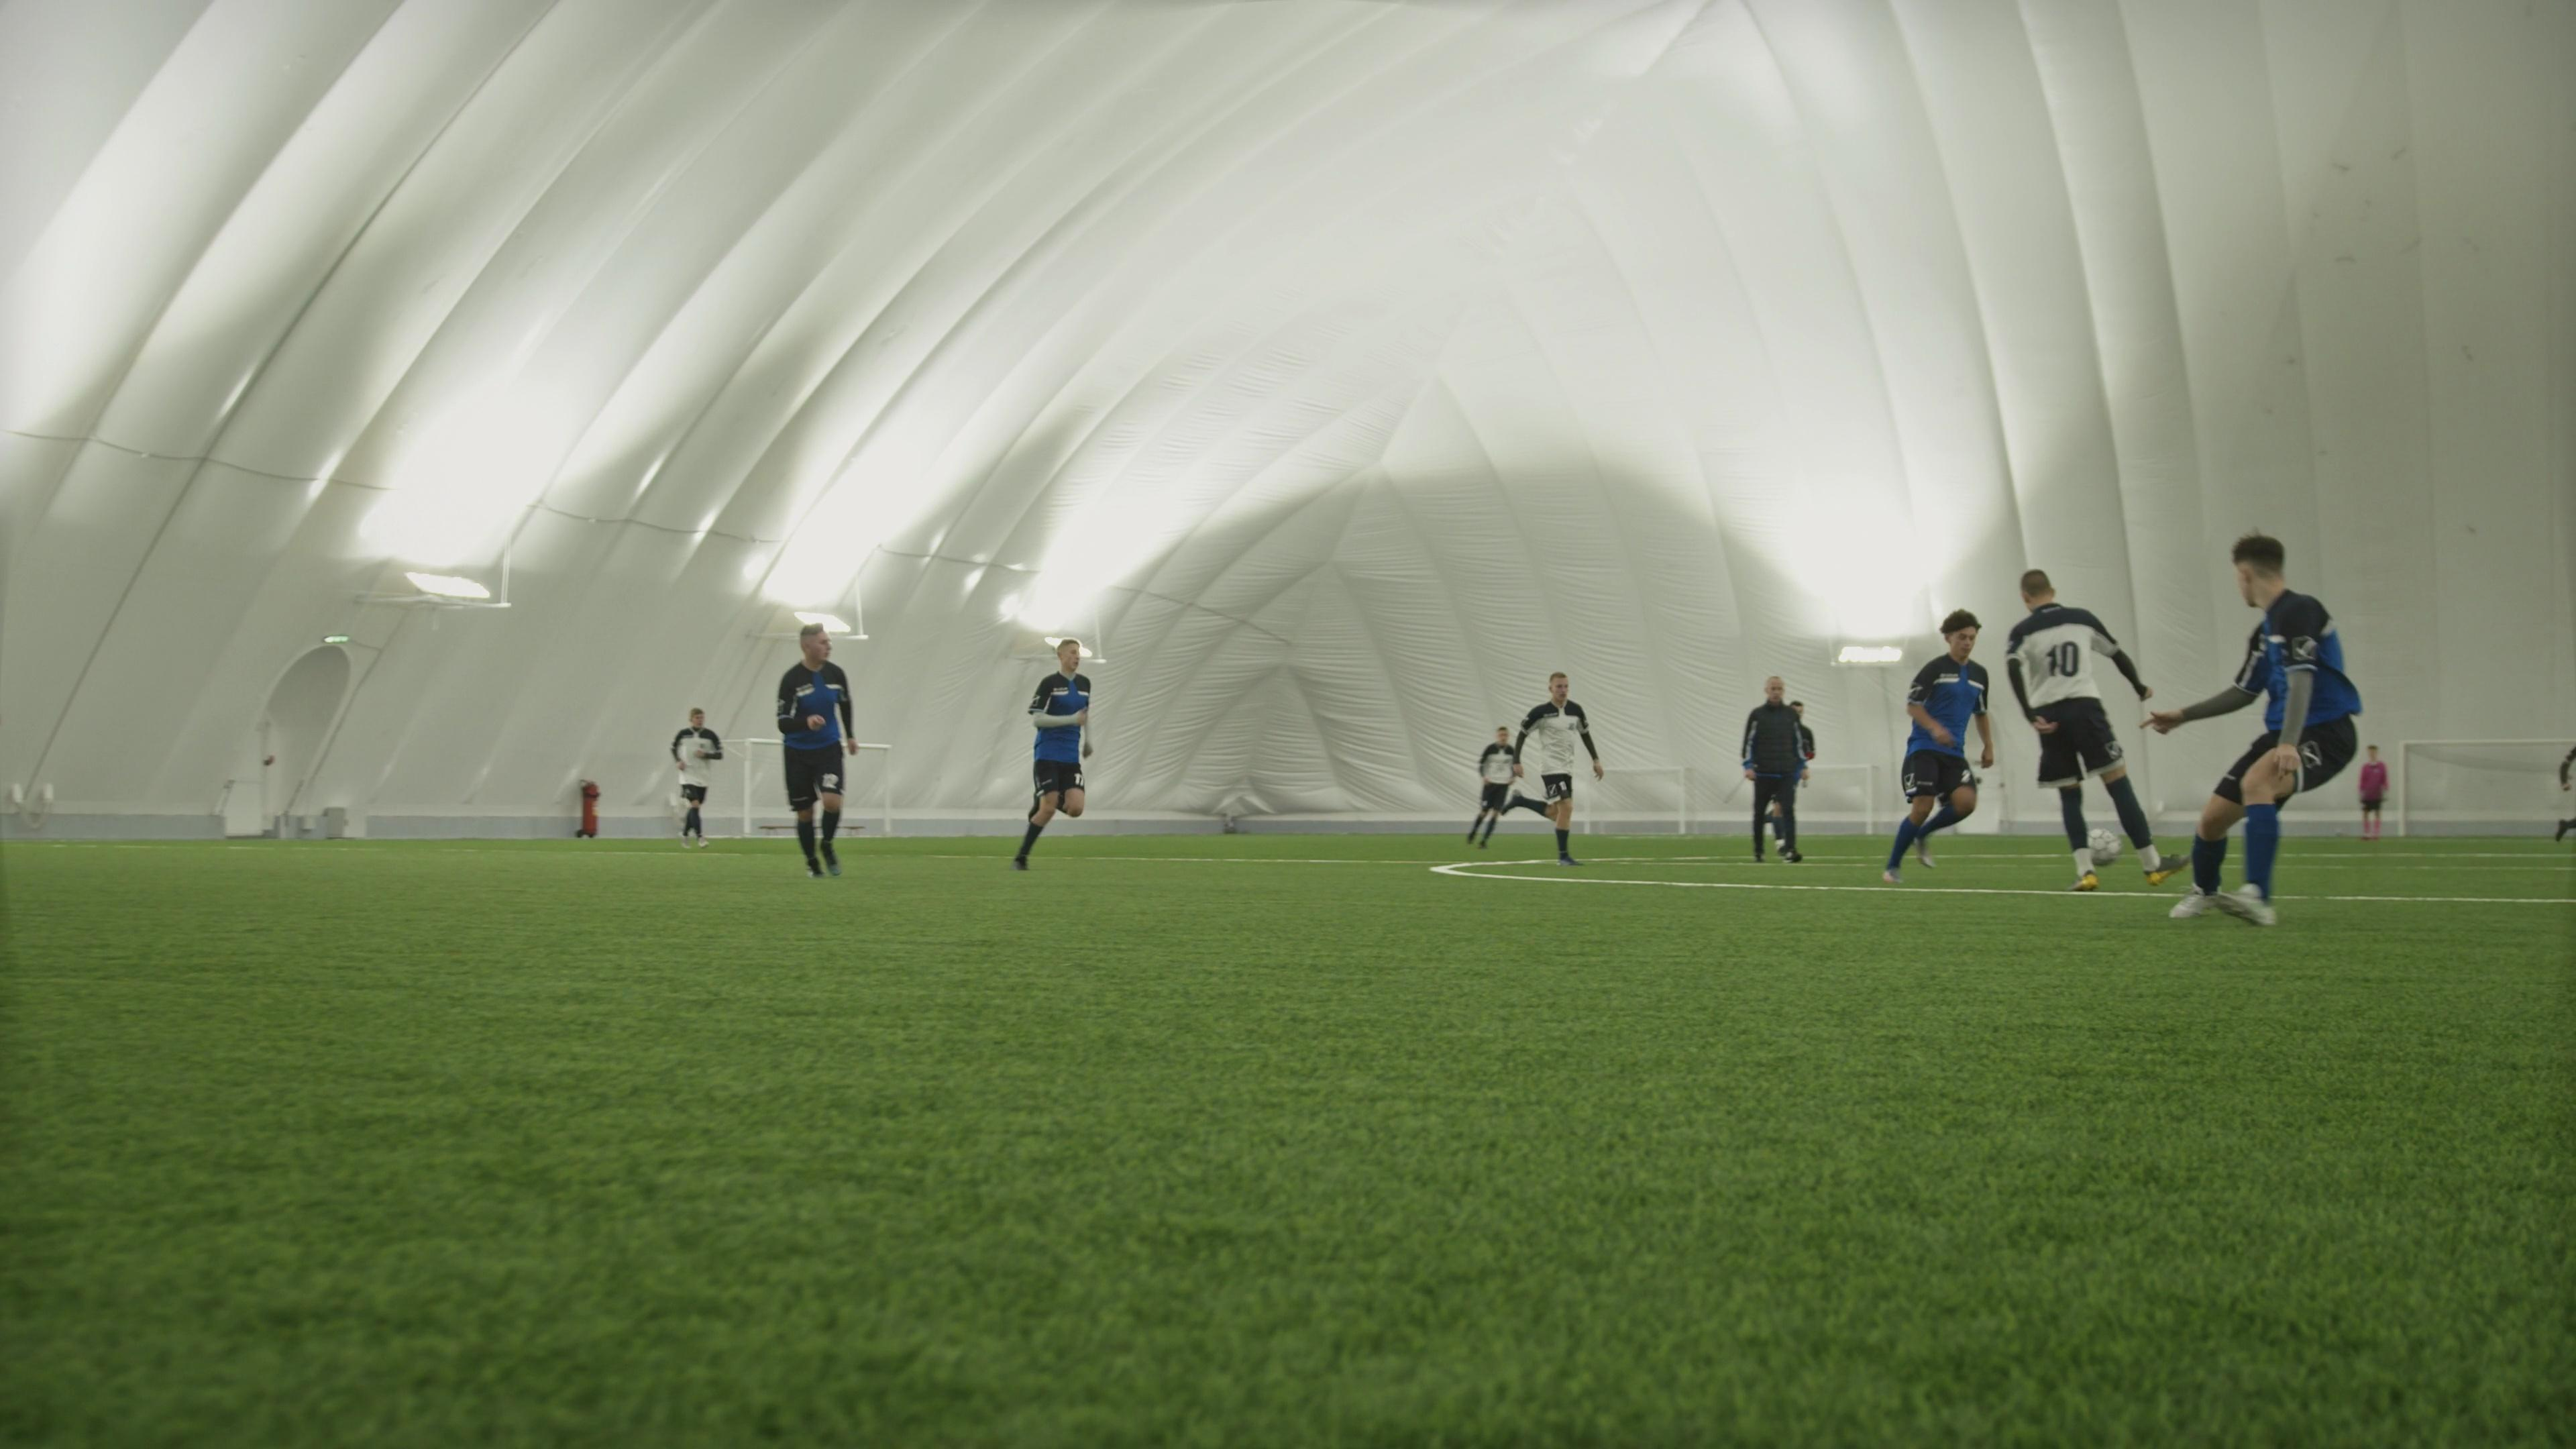other: (1739, 676, 1819, 863)
team1: (2148, 529, 2364, 929), (1879, 609, 1997, 883), (775, 623, 858, 879), (1007, 639, 1090, 872)
team1gk: (2357, 750, 2390, 842)
team2: (2005, 564, 2166, 885), (1514, 672, 1606, 869), (669, 704, 725, 844), (1465, 725, 1523, 853)
